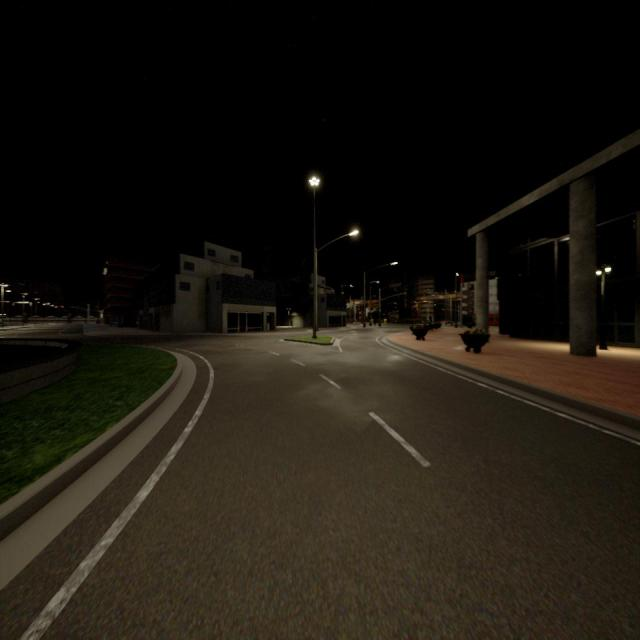traffic_light: (434, 303, 436, 307)
